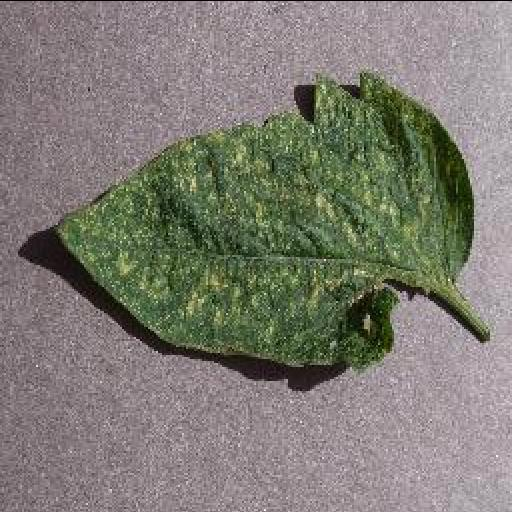disease_tomato: (50, 70, 476, 372)
